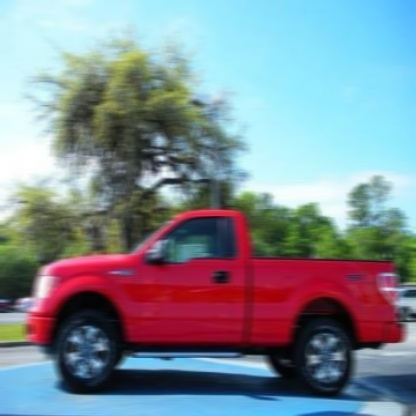Vehicle: (24, 210, 405, 393)
